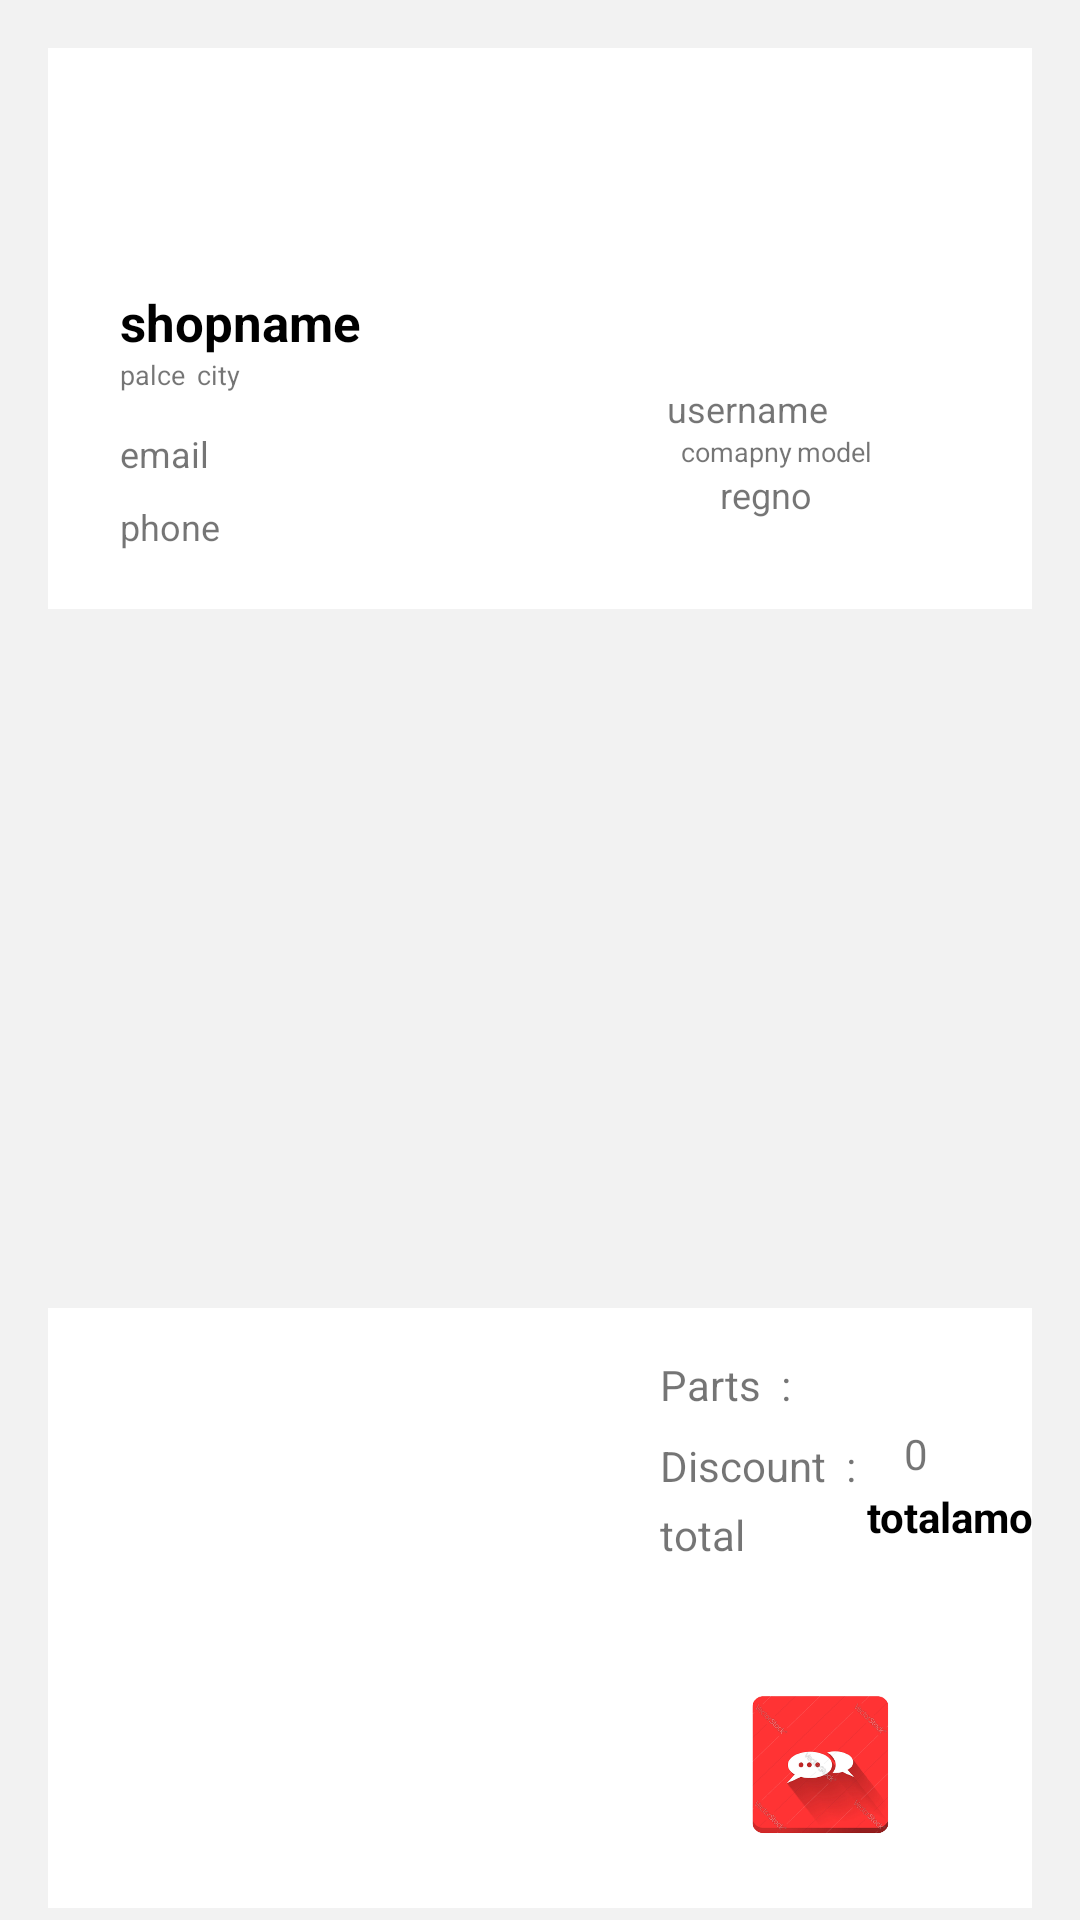

Icon bounding boxes for this 1080px x 1920px phone screenshot, format (x1, y1, x2, y2):
chatlast: (752, 1696, 888, 1833)
